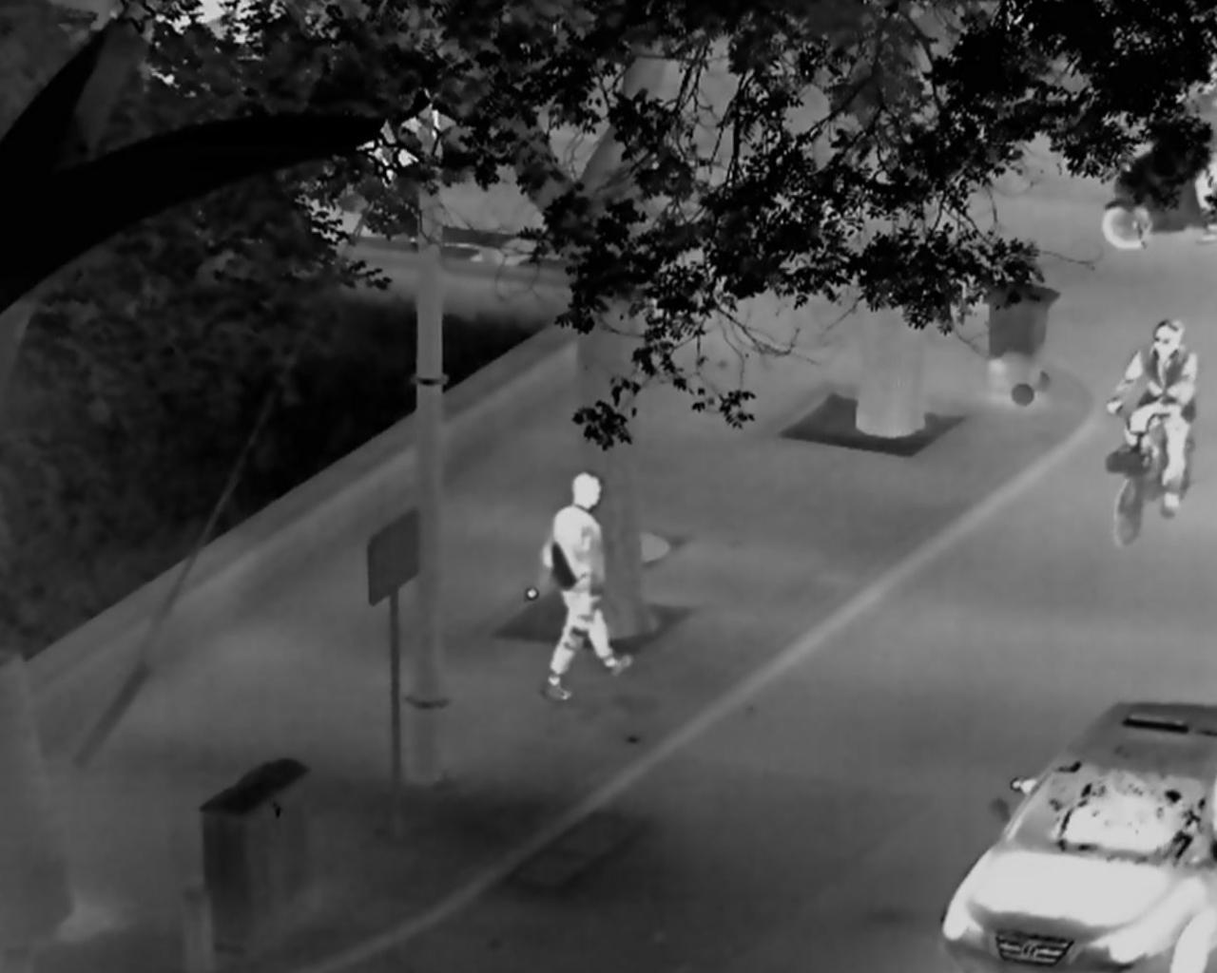person: (523, 470, 636, 701), (1107, 316, 1200, 518)
